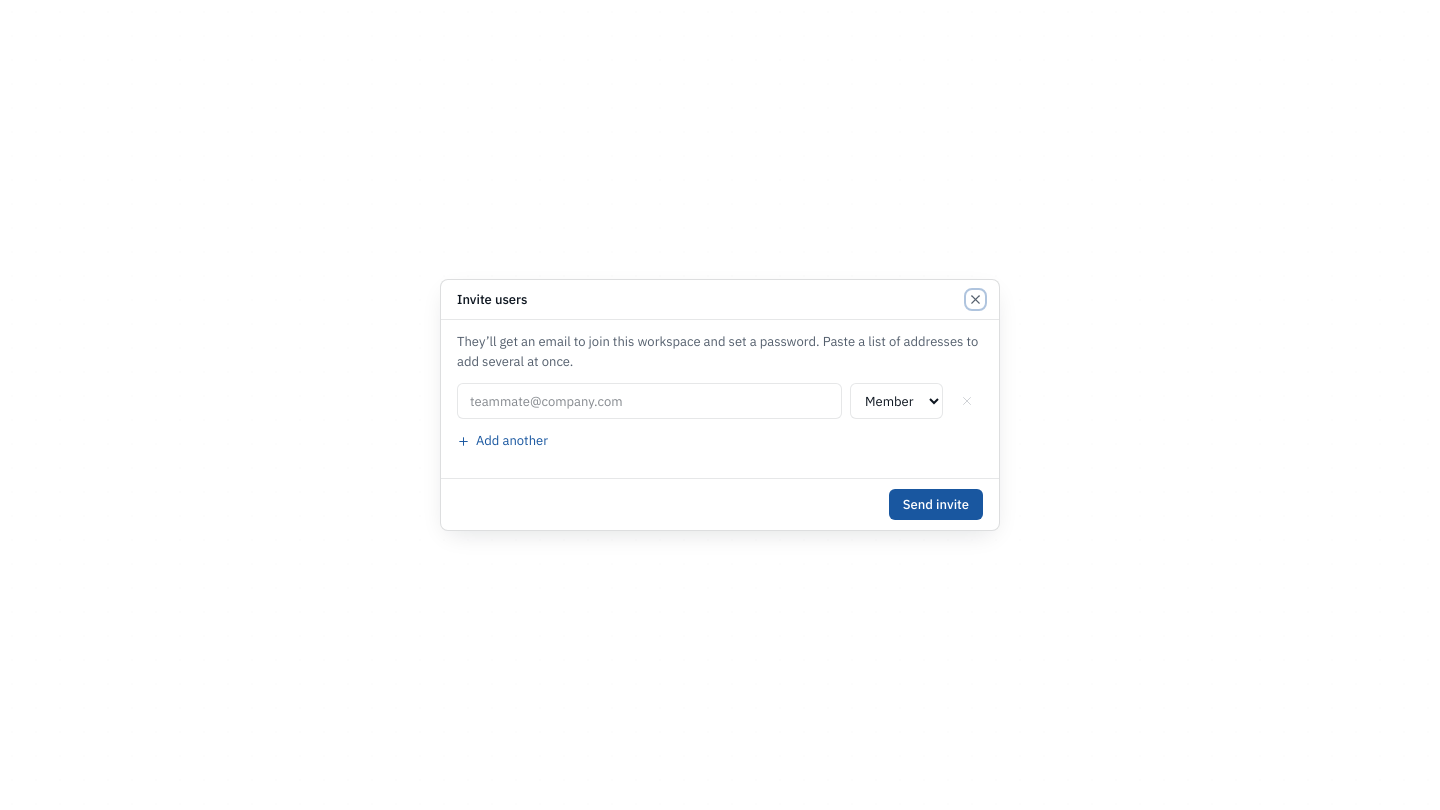
Test: a refusal the user can see › says something when every field is empty
Step 1. Click the button "Send invite" → point(936, 504), box [889, 489, 983, 520]
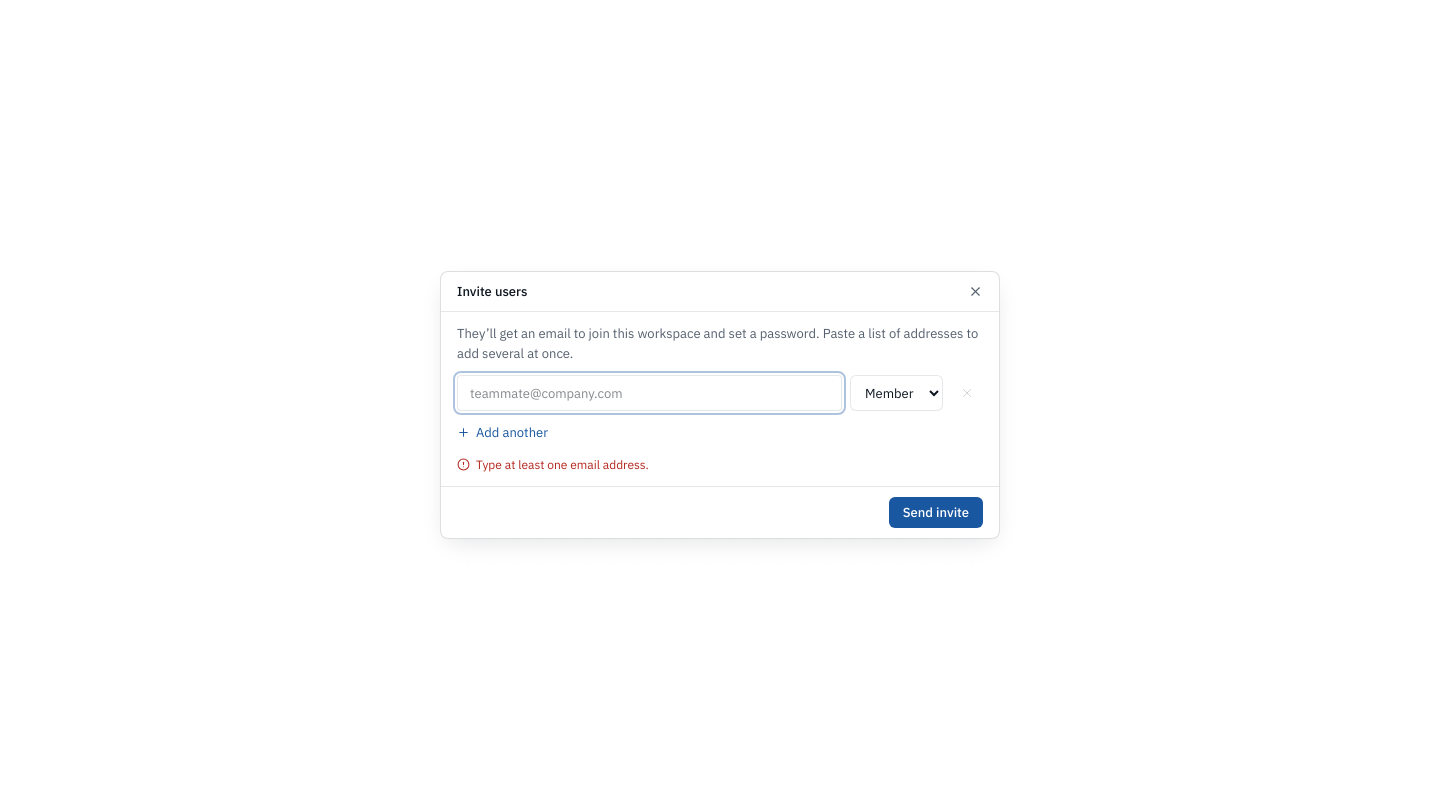
Now the text "Type at least one email address." is shown, box [476, 457, 649, 474]
